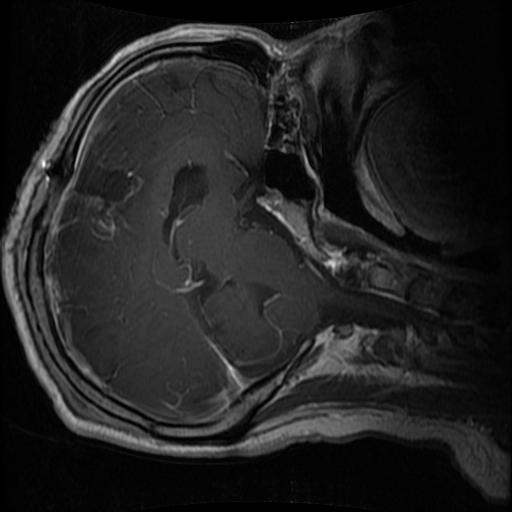glioma: (68, 147, 141, 215)
